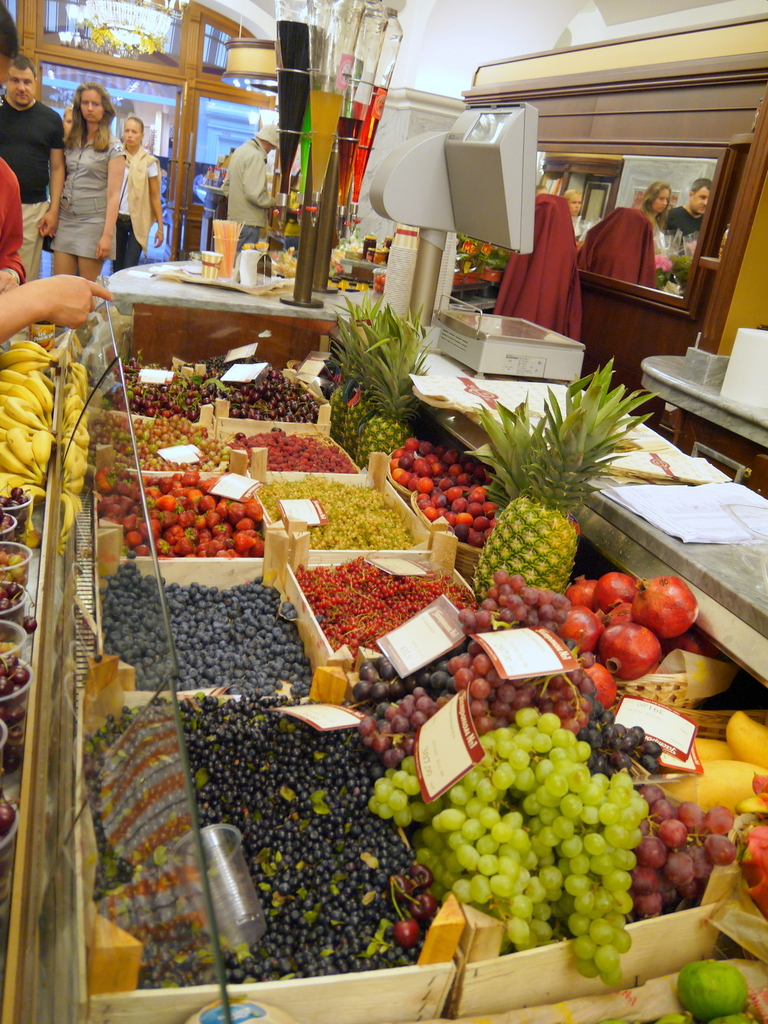Person: (0, 1, 282, 354)
